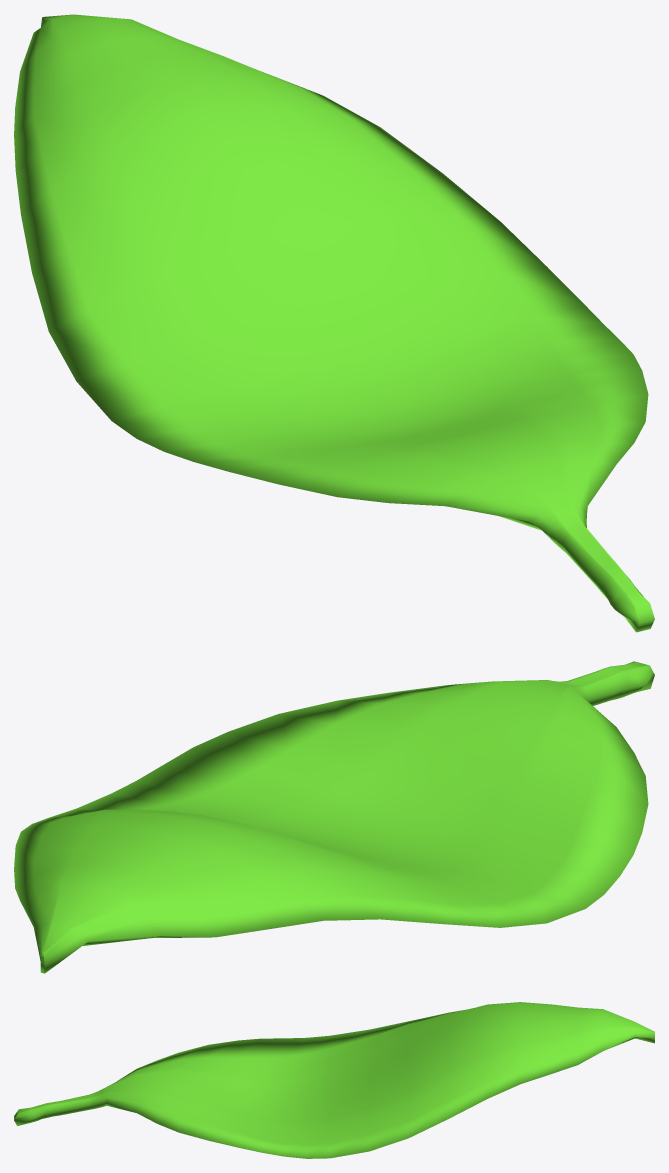
File: Leaf3.glb
3 views of the same model, one above another, from view 1: azimuth 30°, elevation 25°; view 2: azimuth 150°, elevation 25°; view 3: azimuth 270°, elevation 25° (orthographic). The views are drawn at different scales.
Parts seen in each view (by area): view 1: Plane; view 2: Plane; view 3: Plane.
Boxes of the visible parts, x1,y1,x2,y2 form: Plane: [14, 14, 654, 632]; Plane: [14, 661, 654, 973]; Plane: [14, 1002, 654, 1158].
Size of the model in its own units: 3.7 by 1.52 by 8.16.
